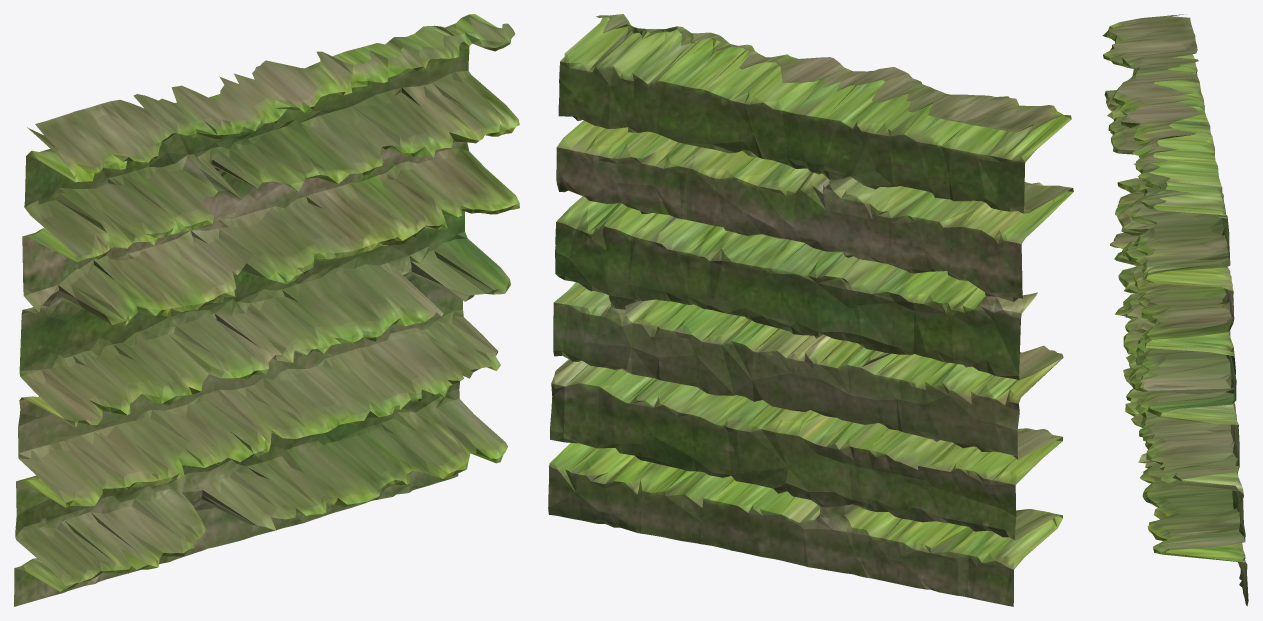
File: map_180_70.obj
3 renders of one model, left to right at view 1: azimuth 30°, elevation 25°; view 2: azimuth 150°, elevation 25°; view 3: azimuth 270°, elevation 25°, orthographic. The views are drawn at different scales.
Visible parts, largest first — view 1: grp1; view 2: grp1; view 3: grp1.
Part boxes in pixels (<box>): grp1: <box>14,14,519,606</box>; grp1: <box>548,14,1073,606</box>; grp1: <box>1102,14,1248,606</box>.
Size of the model in its own units: 10 by 10 by 3.28.
1 material, 1 textured.
